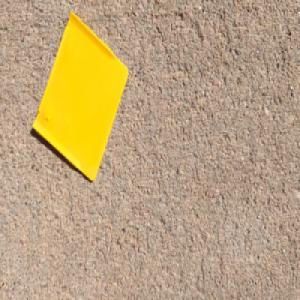PlasticPart: (30, 9, 129, 182)
